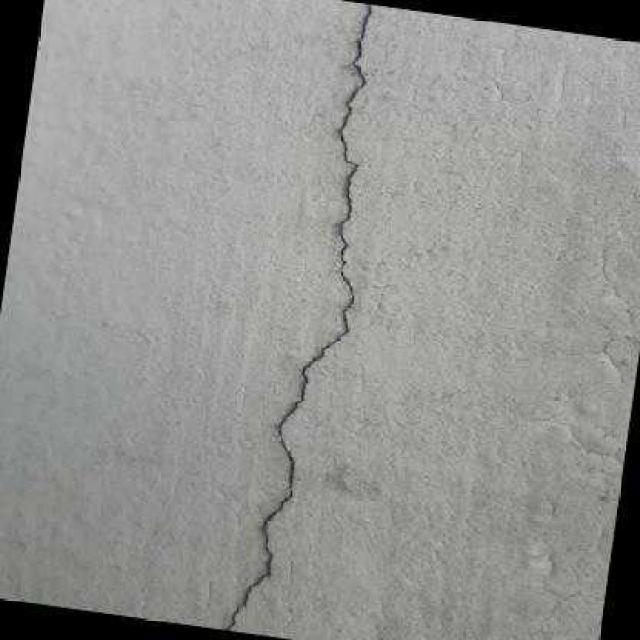D00: (219, 3, 372, 630)
